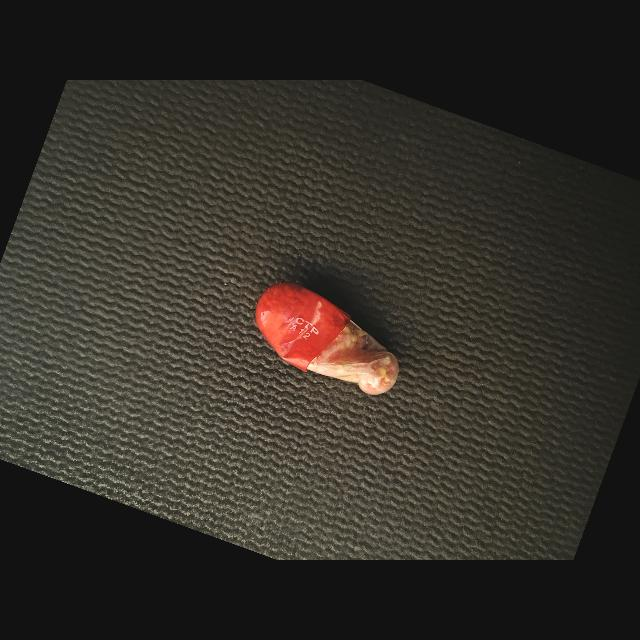Defective Capsule: (255, 282, 399, 395)
